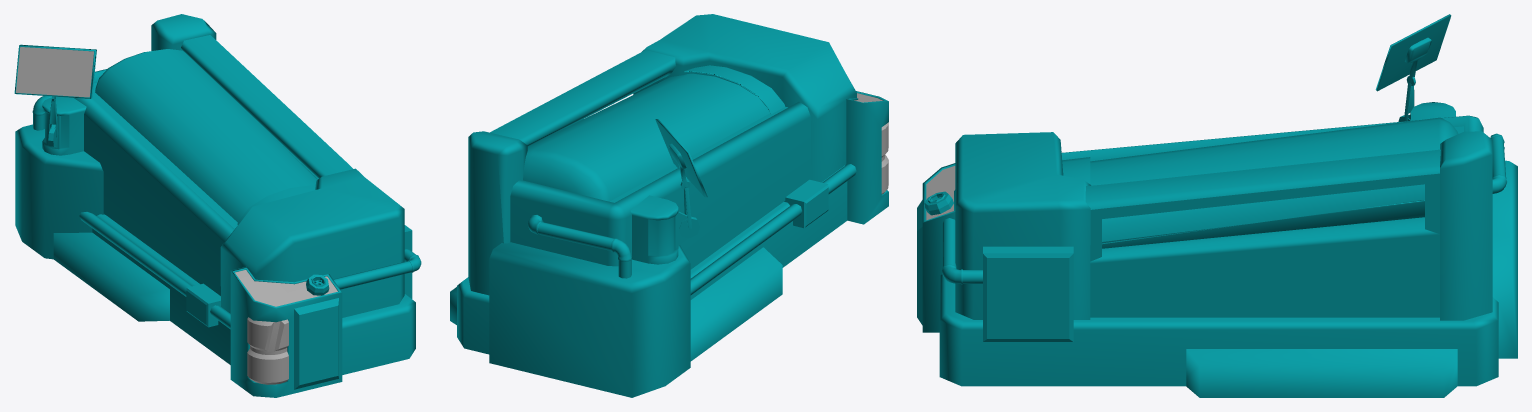
File: Cryopod_metal_4.5_mpenrod 1.fbx
3 views of the same model, side by side, from view 1: azimuth 30°, elevation 25°; view 2: azimuth 150°, elevation 25°; view 3: azimuth 270°, elevation 25° (orthographic). The views are drawn at different scales.
Parts seen in each view (by area): view 1: polySurface52, polySurface49, Moniter, polySurface47, Power_gague; view 2: polySurface52, polySurface49, polySurface47; view 3: polySurface52, polySurface49, Power_gague.
Boxes of the visible parts, bbox=[...] form: polySurface52: bbox=[14, 14, 421, 397]; polySurface49: bbox=[95, 49, 317, 222]; Moniter: bbox=[16, 47, 93, 97]; polySurface47: bbox=[247, 317, 288, 384]; Power_gague: bbox=[235, 270, 337, 306]; polySurface52: bbox=[450, 14, 888, 397]; polySurface49: bbox=[523, 73, 768, 201]; polySurface47: bbox=[881, 122, 888, 194]; polySurface52: bbox=[917, 14, 1517, 397]; polySurface49: bbox=[1090, 117, 1458, 244]; Power_gague: bbox=[926, 166, 955, 220].
Bounding box in the file's own units: 1.64 × 1.42 × 3.05.
